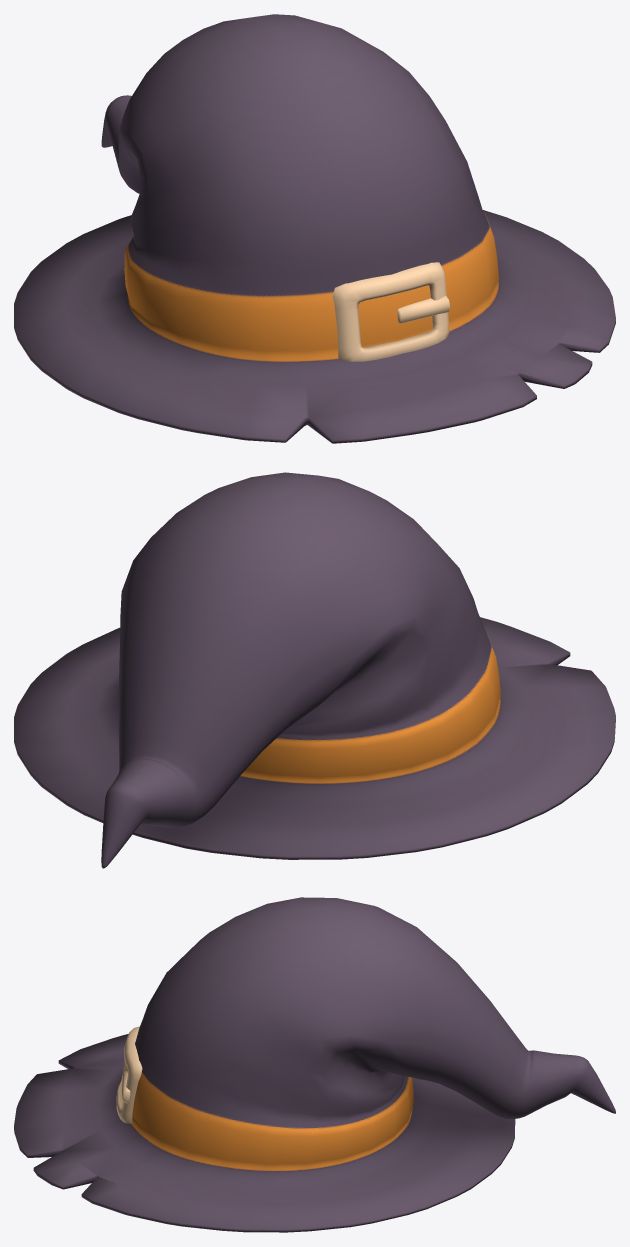
Rendered from Witch Hat.fbx.
The picture shows the model from 3 angles, top to bottom: view 1: azimuth 30°, elevation 25°; view 2: azimuth 150°, elevation 25°; view 3: azimuth 270°, elevation 25°; orthographic projection. The views are drawn at different scales.
Parts seen in each view (by area): view 1: Witch Hat; view 2: Witch Hat; view 3: Witch Hat.
Part boxes in pixels (bbox=[...]): Witch Hat: bbox=[14, 14, 615, 443]; Witch Hat: bbox=[14, 472, 615, 868]; Witch Hat: bbox=[14, 897, 615, 1232].
Size of the model in its own units: 63.28 by 30.87 by 76.39.
